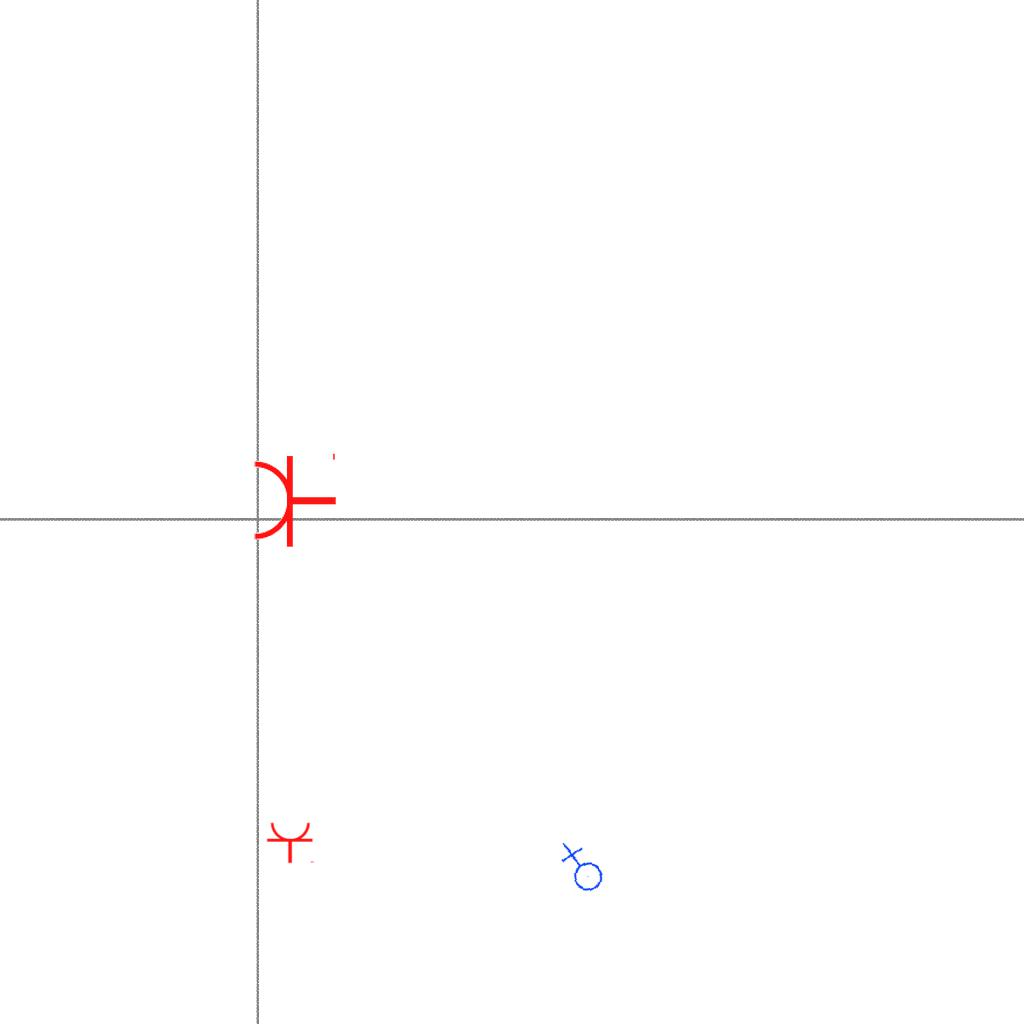Elektroanschluss_allgemein_230V_Geraeteanschlussdose_230V: (553, 841, 608, 898)
Schukosteckdose_einfach: (251, 449, 338, 549), (266, 821, 316, 864)
